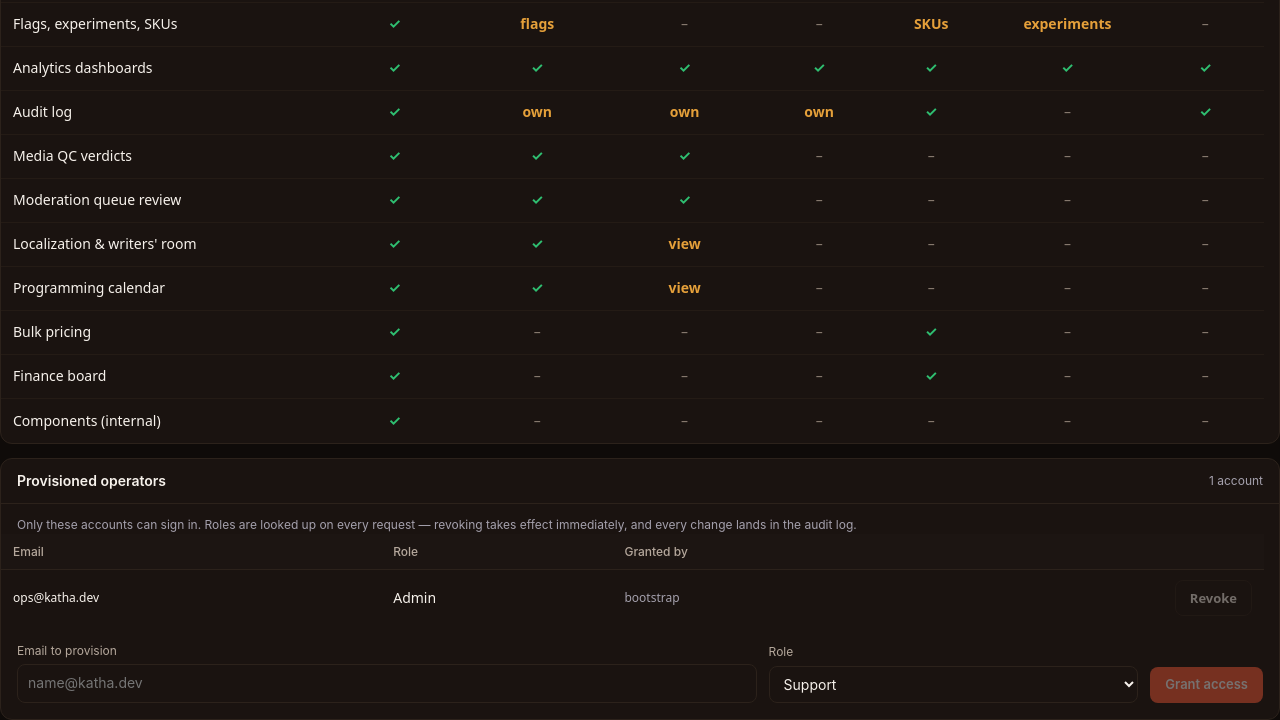
it: modal closers › Access People: the admin-grant confirm cancels
(page scrolled)
In the field labelled "Email to provision": (387, 683) [17, 664, 757, 703], type "lead@katha.dev"
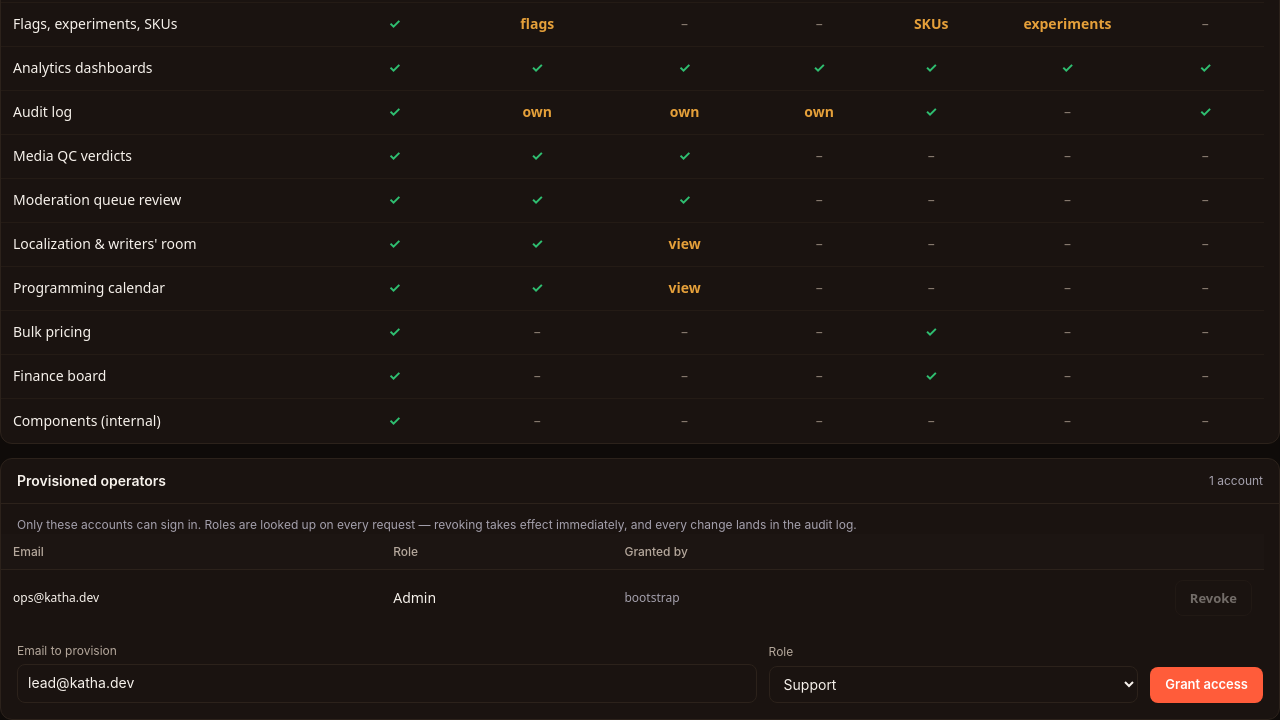
Select "Admin" in the dropdown named "Role to grant": (954, 684) [769, 666, 1138, 703]
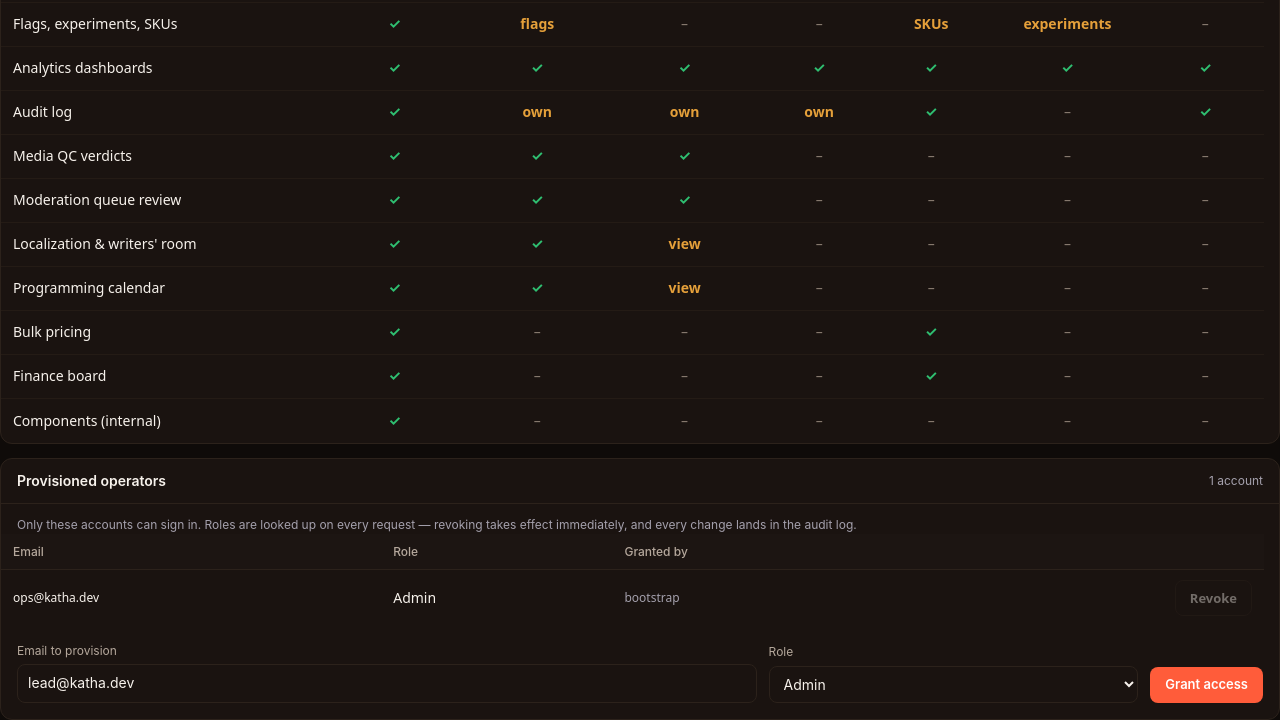
Click the button "Grant access": (1207, 685) [1150, 667, 1263, 703]
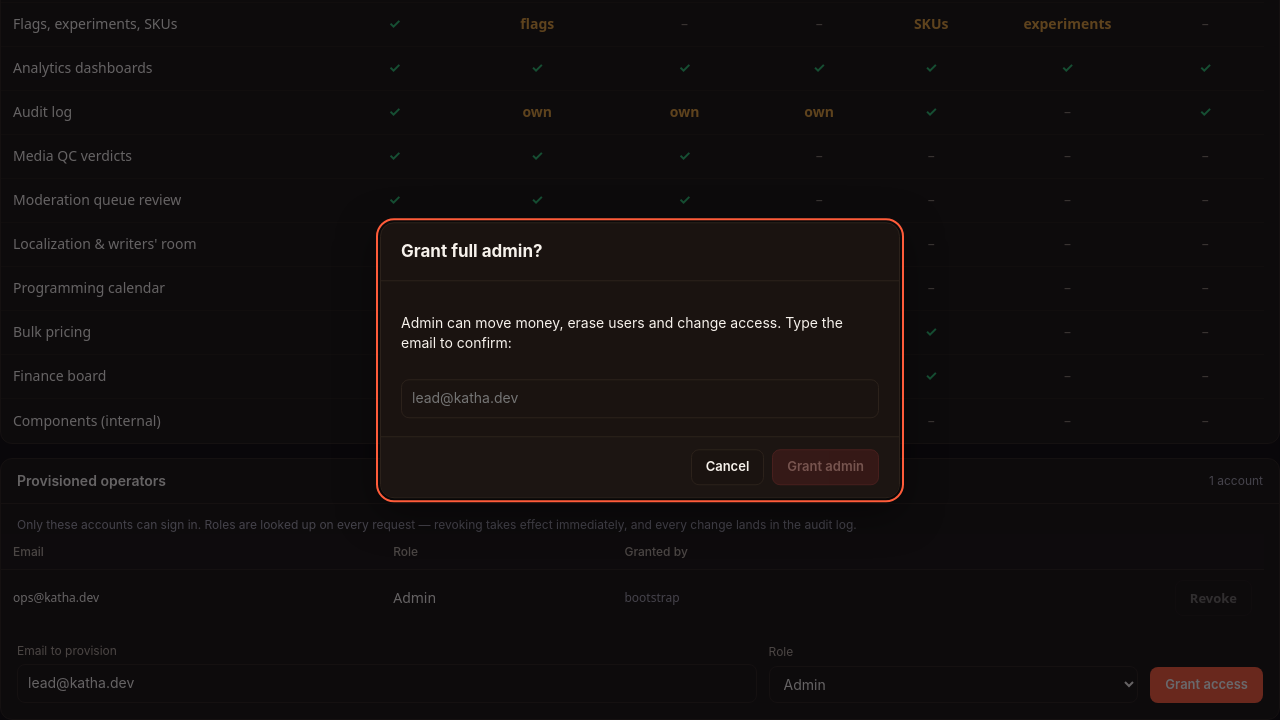
Click the button "Cancel": (727, 467) [691, 449, 764, 485]
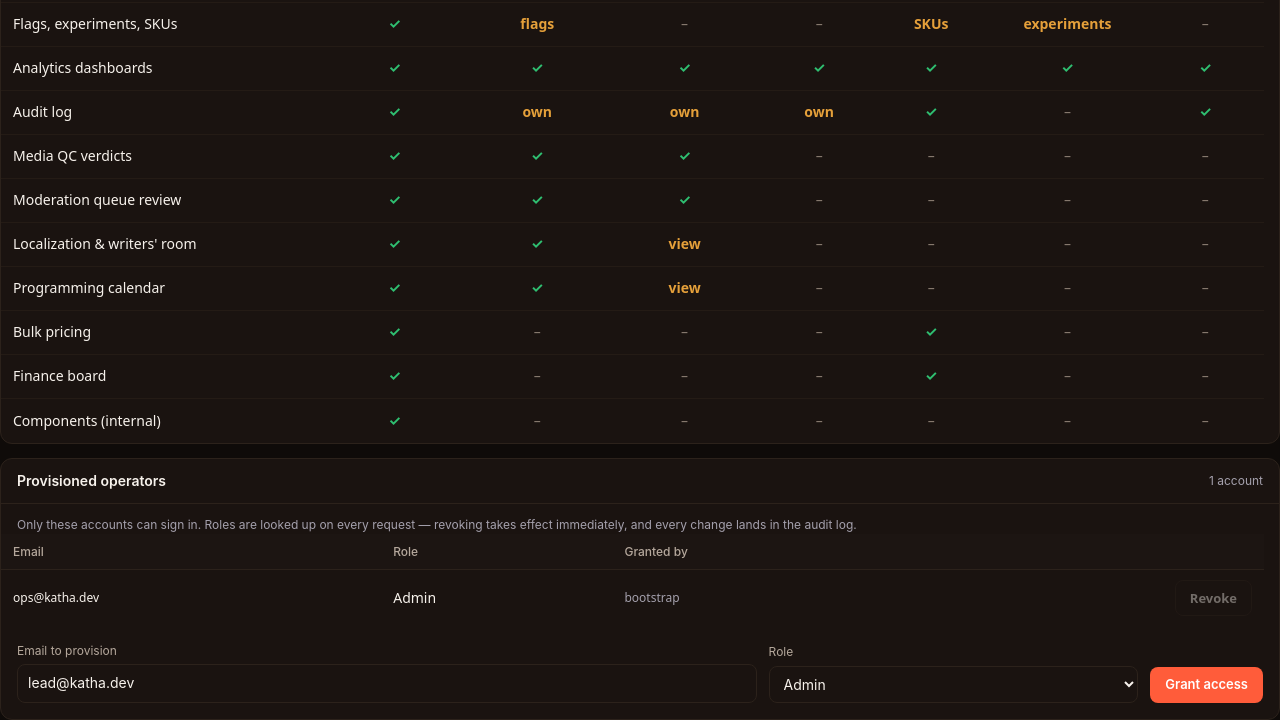
Expected: the dialog is gone
